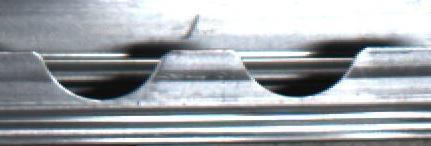twou: (38, 42, 360, 106)
